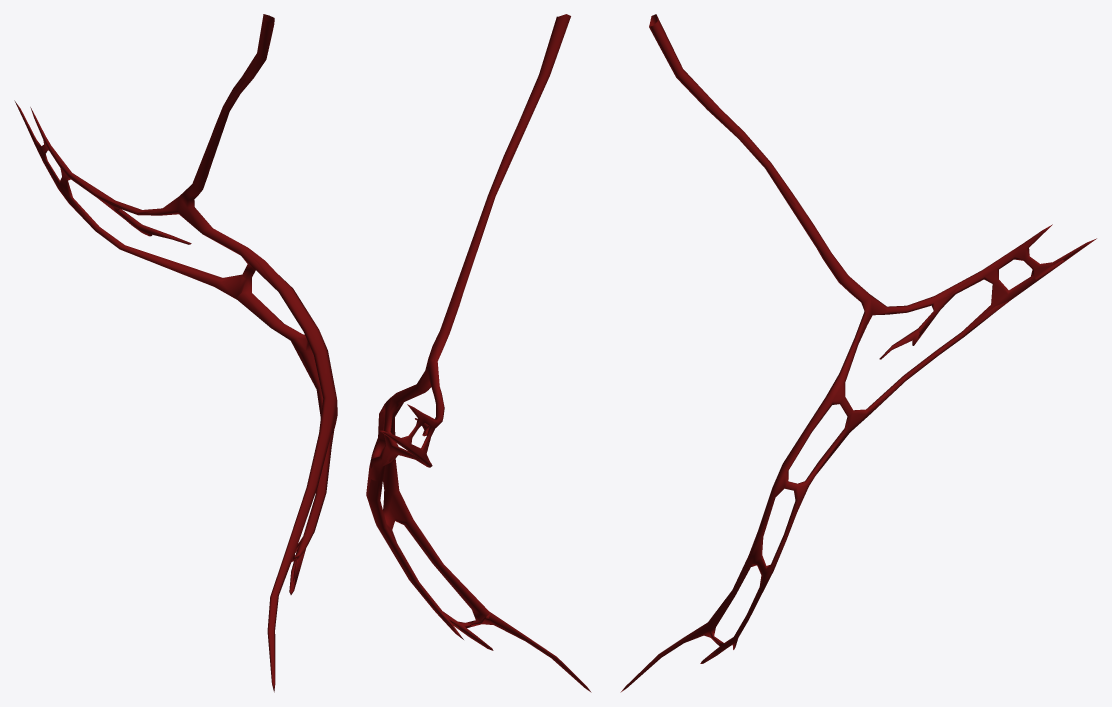
File: L uterina.fbx
The picture shows the model from 3 angles, left to right: view 1: azimuth 30°, elevation 25°; view 2: azimuth 150°, elevation 25°; view 3: azimuth 270°, elevation 25°; orthographic projection. The views are drawn at different scales.
Parts seen in each view (by area): view 1: L uterina, L uterina low; view 2: L uterina, L uterina low; view 3: L uterina, L uterina low.
Boxes of the visible parts, <box> form: L uterina: <box>14,14,337,692</box>; L uterina low: <box>16,14,330,589</box>; L uterina: <box>366,126,591,692</box>; L uterina low: <box>366,14,570,635</box>; L uterina: <box>620,14,1096,692</box>; L uterina low: <box>649,14,1092,662</box>.
Bounding box in the file's own units: 6.22 × 23.04 × 14.62.
